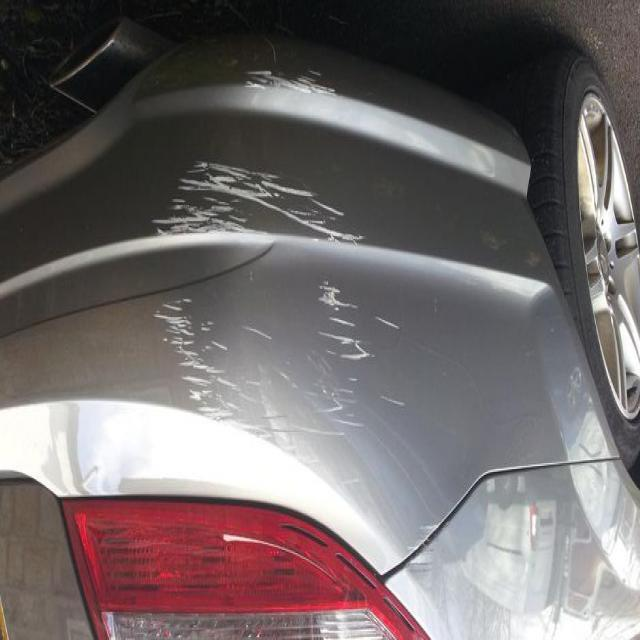scratch: (133, 50, 400, 515)
